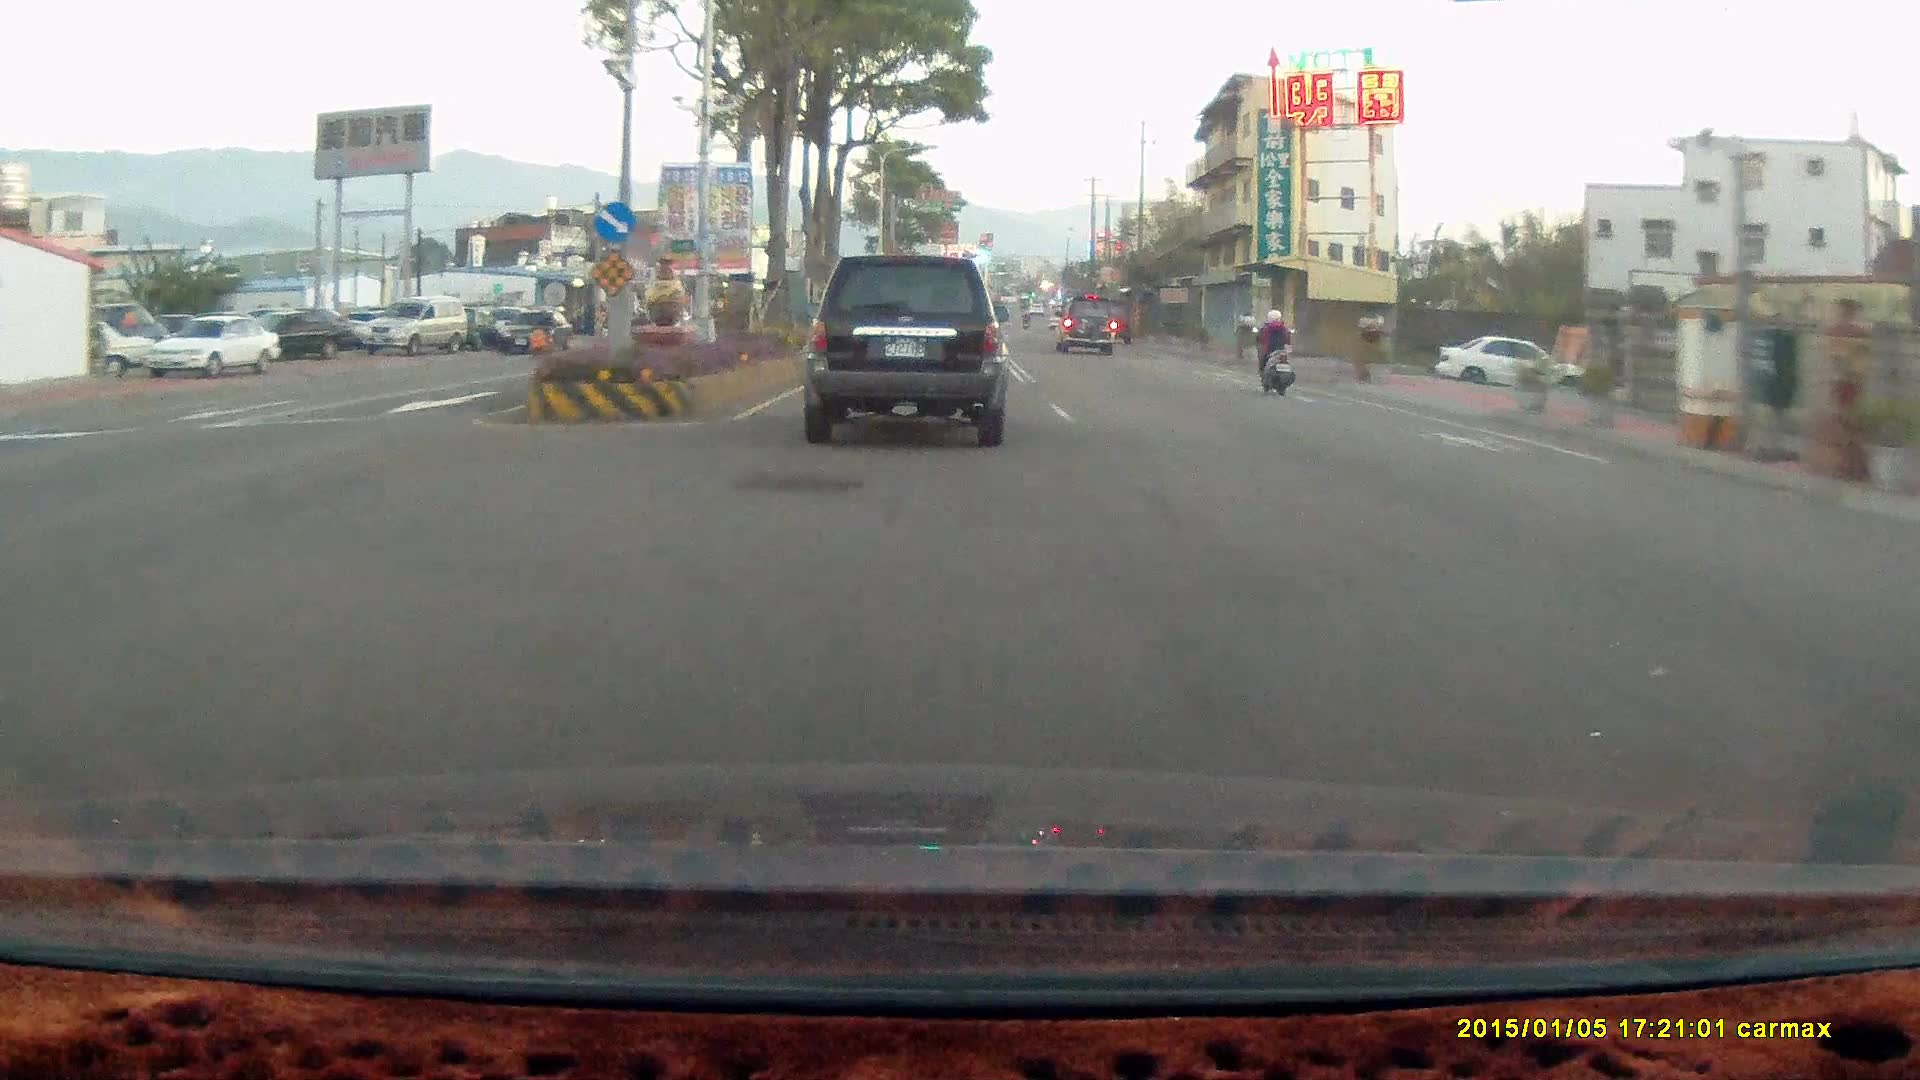rider: (1242, 299, 1305, 404), (1249, 301, 1294, 392), (524, 304, 556, 361)
vehicle: (799, 245, 1010, 446), (798, 251, 1010, 446), (1432, 332, 1590, 392), (140, 311, 281, 377), (1438, 340, 1596, 398), (144, 311, 282, 375), (360, 293, 468, 352), (249, 303, 363, 359), (363, 291, 471, 350), (244, 309, 362, 359), (1052, 292, 1116, 352), (1059, 294, 1117, 357), (505, 308, 579, 357), (503, 307, 576, 354)
